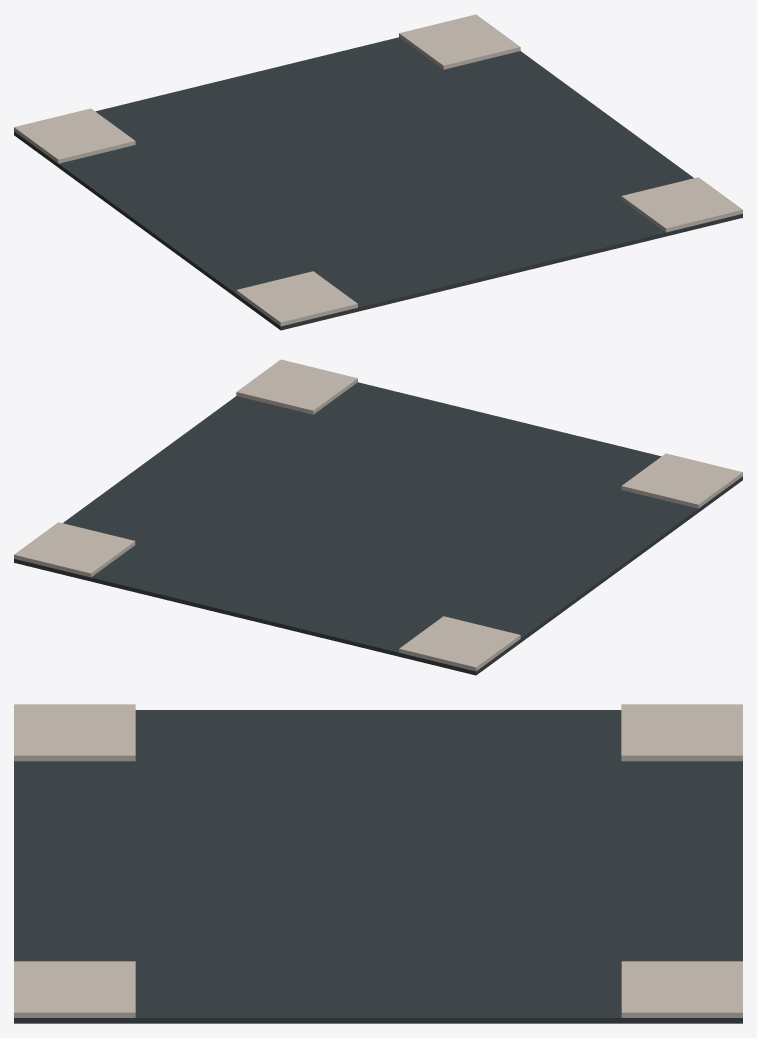
File: SM_road_029.glb
3 renders of one model, top to bottom at view 1: azimuth 30°, elevation 25°; view 2: azimuth 150°, elevation 25°; view 3: azimuth 270°, elevation 25°, orthographic. The views are drawn at different scales.
Visible parts, largest first — view 1: SM_road_029; view 2: SM_road_029; view 3: SM_road_029.
Boxes of the visible parts, x1,y1,x2,y2 form: SM_road_029: [14, 14, 742, 330]; SM_road_029: [14, 359, 742, 675]; SM_road_029: [14, 704, 742, 1023].
Bounding box in the file's own units: 6 × 0.1 × 6.
1 material, 1 textured.
